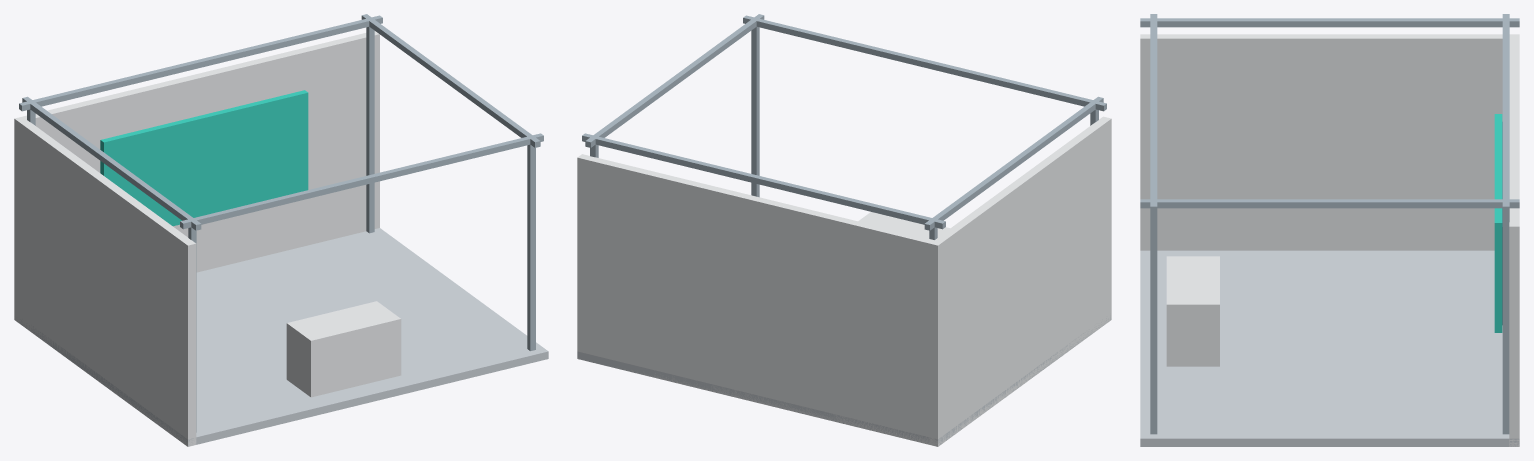
3 renders of one model, left to right at view 1: azimuth 30°, elevation 25°; view 2: azimuth 150°, elevation 25°; view 3: azimuth 270°, elevation 25°, orthographic. The views are drawn at different scales.
Visible parts, largest first — view 1: Exhibition Booth Concept; view 2: Exhibition Booth Concept; view 3: Exhibition Booth Concept.
Part boxes in pixels (x1=…): Exhibition Booth Concept: x1=14, y1=14, x2=548, y2=446; Exhibition Booth Concept: x1=577, y1=14, x2=1111, y2=446; Exhibition Booth Concept: x1=1140, y1=14, x2=1519, y2=446.
Bounding box in the file's own units: 6 × 3.49 × 5.
